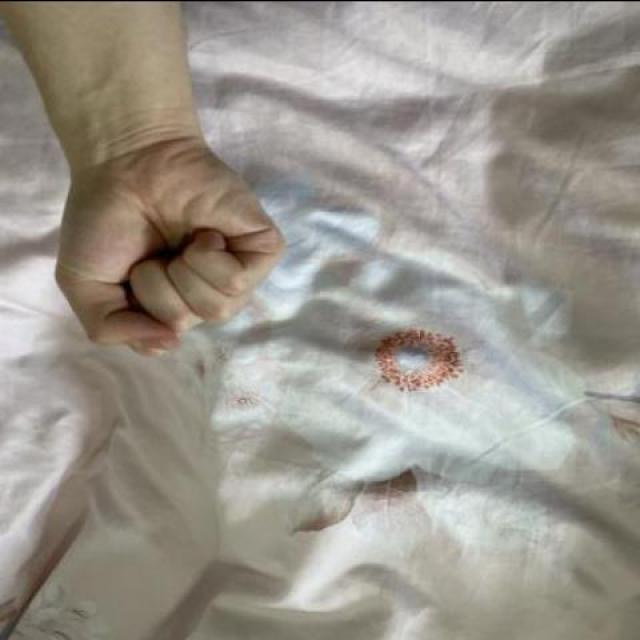Closed Hand: (48, 131, 304, 361)
